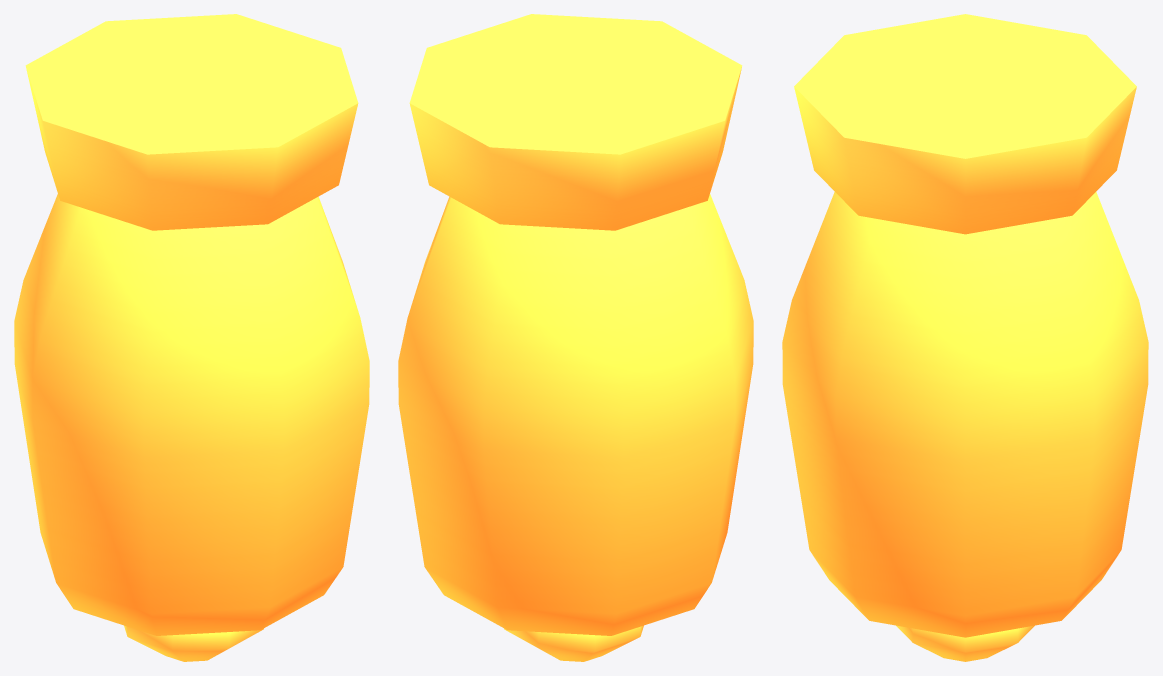
The model's file is gold_pommel_025.glb.
The picture shows the model from 3 angles, left to right: view 1: azimuth 30°, elevation 25°; view 2: azimuth 150°, elevation 25°; view 3: azimuth 270°, elevation 25°; orthographic projection.
Visible parts, largest first — view 1: gold_pommel_025; view 2: gold_pommel_025; view 3: gold_pommel_025.
Boxes of the visible parts, x1=… form: gold_pommel_025: x1=14, y1=14, x2=369, y2=661; gold_pommel_025: x1=398, y1=14, x2=753, y2=661; gold_pommel_025: x1=782, y1=14, x2=1148, y2=661.
Bounding box in the file's own units: 1.37 × 2.32 × 1.37.
1 material, 1 textured.
